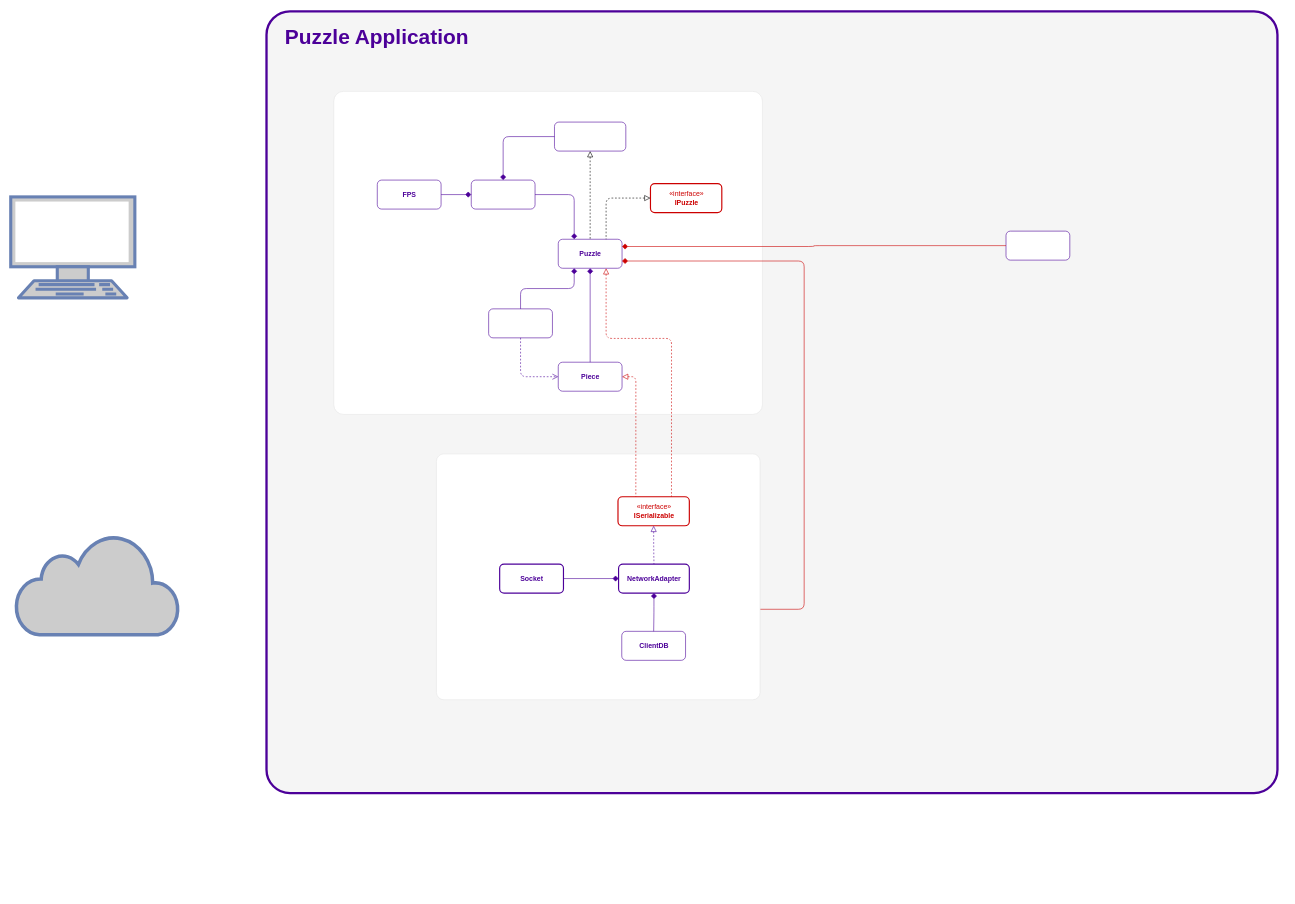
Some shapes in this 1295 by 904 pixel diagram are drawn without their labels. The shapes that lost their labels are listed below. From the top down, each one's box as (x1, y1, x2, y2) in pixels, then its label:
(554, 122, 626, 151): «interface» IGeneratePuzzle
(471, 180, 535, 209): Menu
(1005, 231, 1070, 260): PlayController
(488, 308, 552, 338): PiecesFactory
